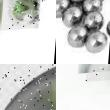ironball: (0, 64, 55, 109), (0, 0, 42, 30), (80, 10, 104, 34), (67, 26, 88, 48), (86, 30, 107, 52), (62, 5, 81, 29), (56, 0, 72, 20), (83, 0, 102, 15), (105, 15, 109, 44), (34, 0, 54, 3)
